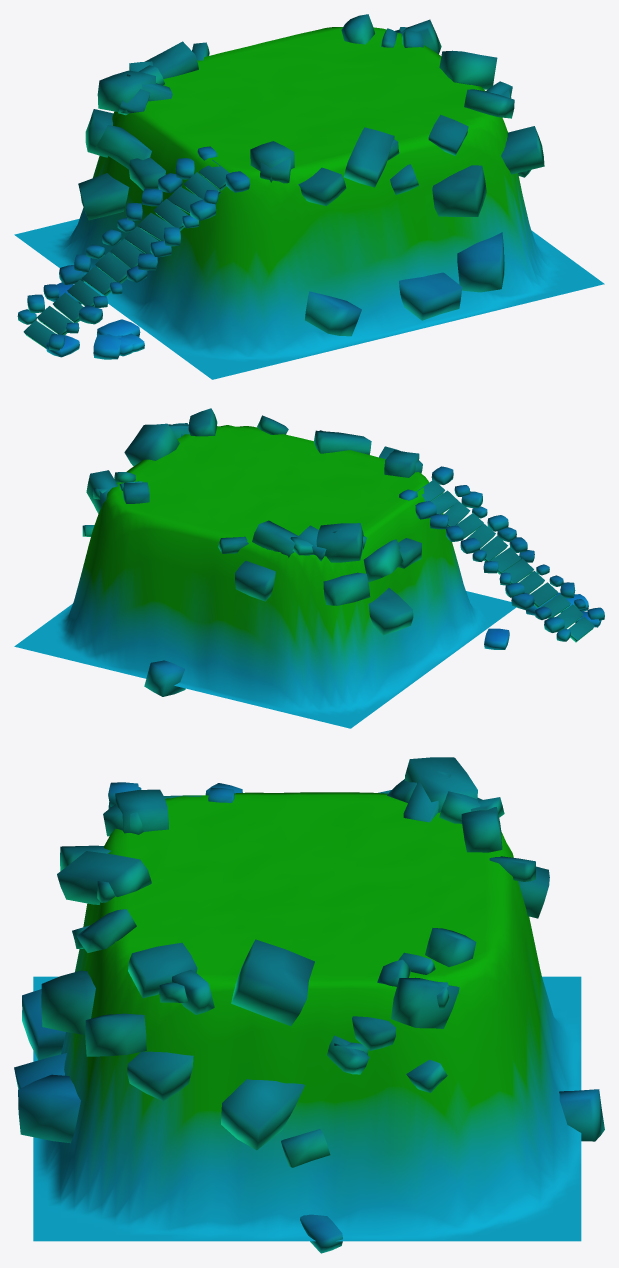
File: strand_rocks.glb
3 views of the same model, one above another, from view 1: azimuth 30°, elevation 25°; view 2: azimuth 150°, elevation 25°; view 3: azimuth 270°, elevation 25° (orthographic). The views are drawn at different scales.
Parts seen in each view (by area): view 1: strand_rocks; view 2: strand_rocks; view 3: strand_rocks.
Part boxes in pixels (x1,y1,x2,y2): strand_rocks: (14, 14, 604, 379); strand_rocks: (14, 408, 604, 728); strand_rocks: (14, 757, 604, 1253).
Size of what is drawn, in the model's own units: 14.88 by 5.4 by 10.42.
